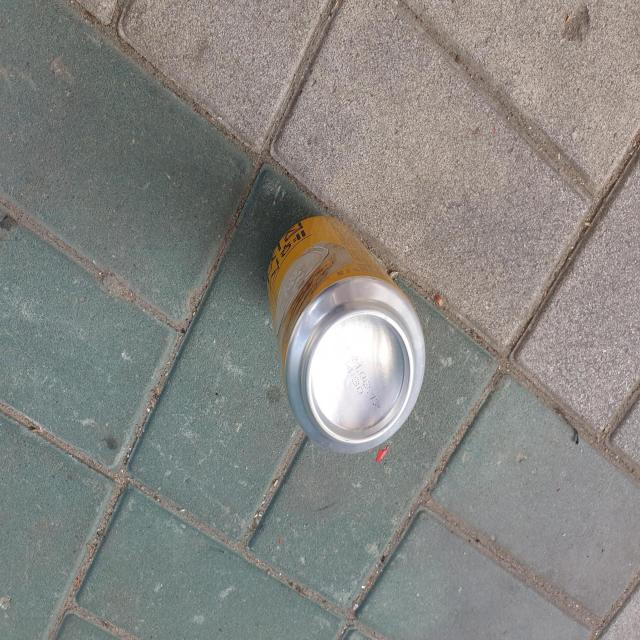can: (268, 215, 426, 453)
